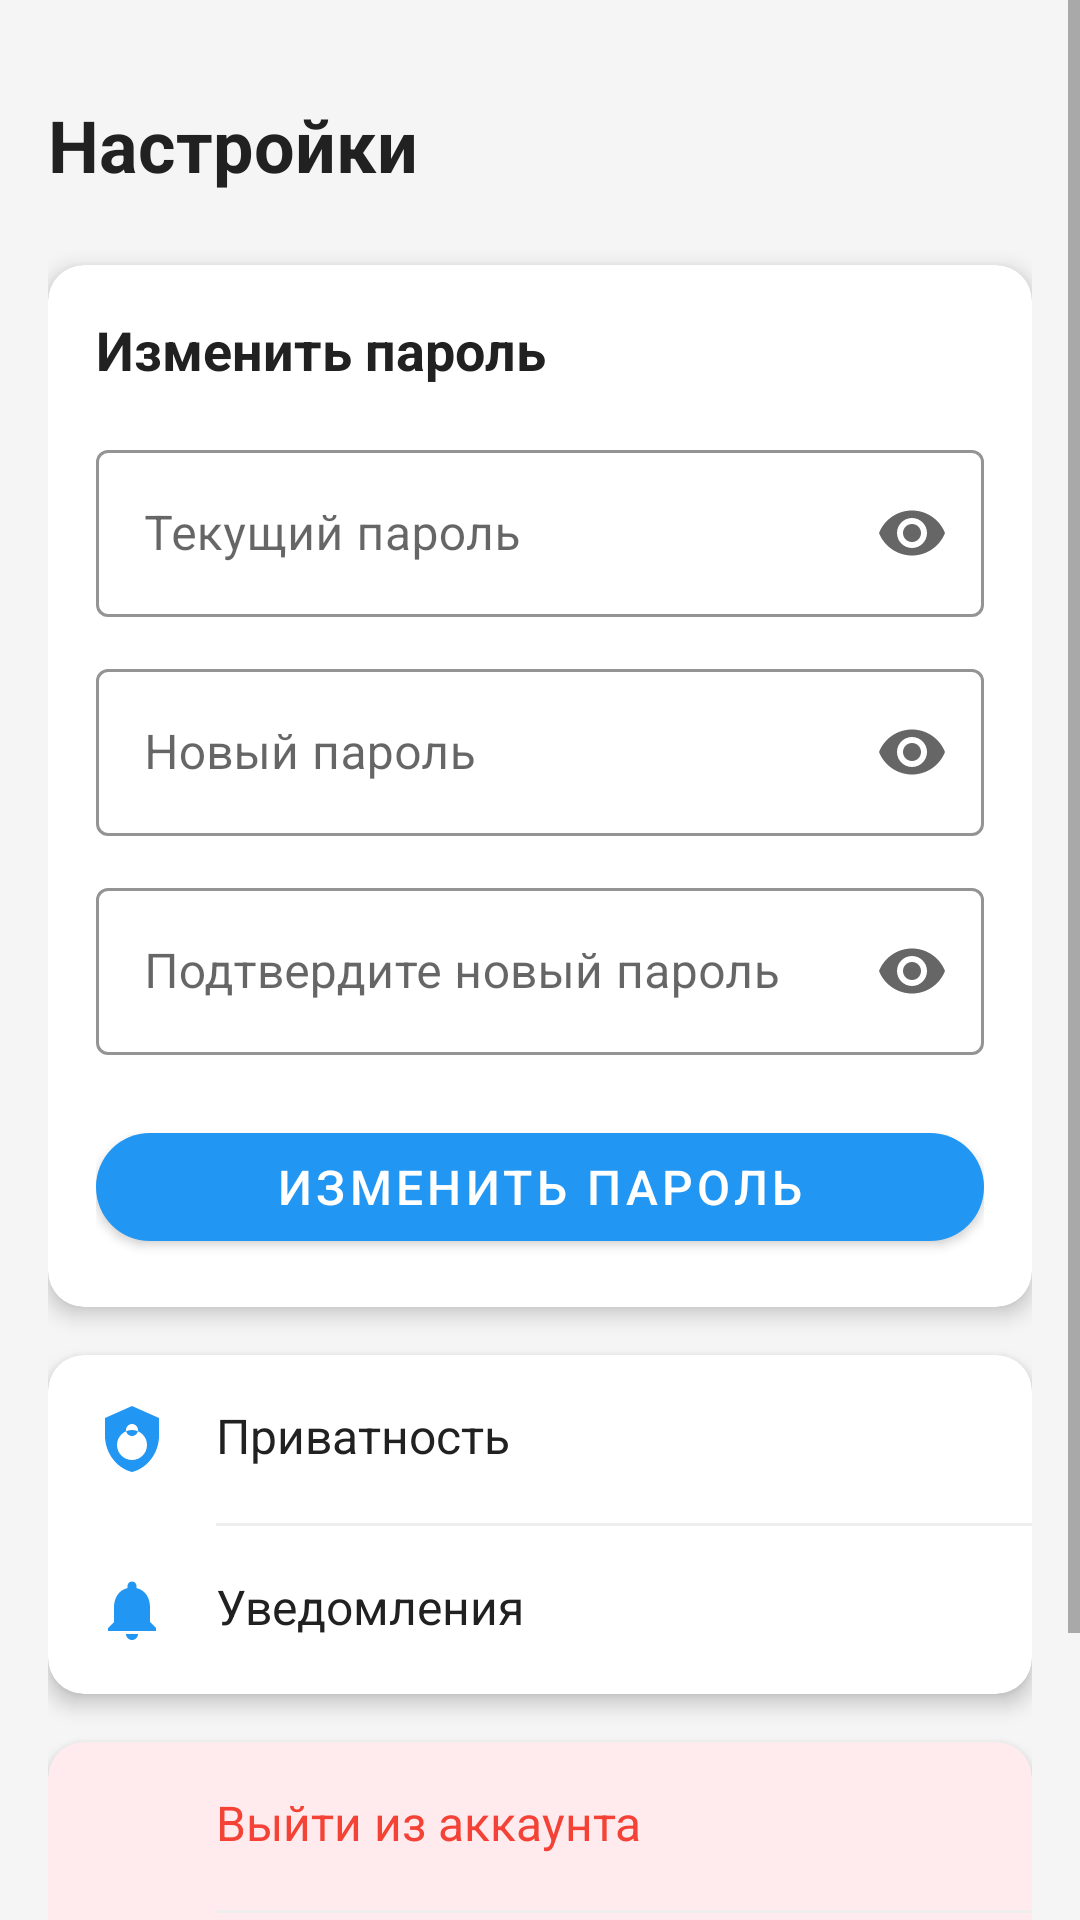

Screen size 1080 x 1920. Icon name, then its box in pixels as region(x1, y1, x2, y2):
notifications: region(108, 1581, 156, 1640)
privacy: region(105, 1406, 159, 1472)
